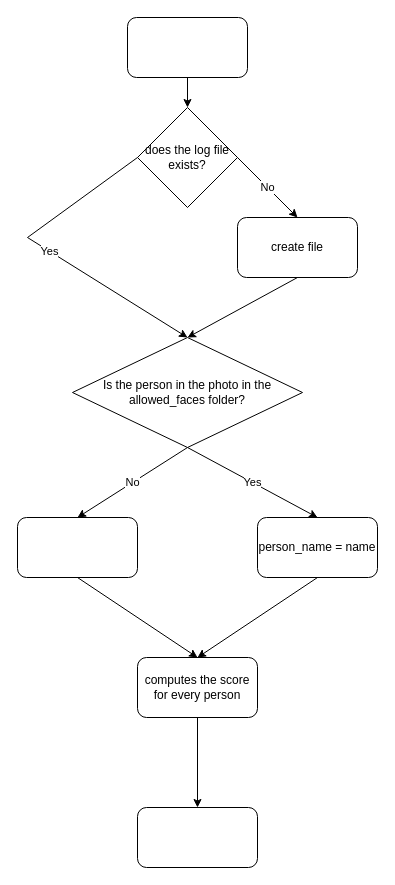
This 395x885 diagram has some shape labels left out. Here are the shapes that lost their labels. From the top down, the centre of each, then its label:
At (x=187, y=47): "start".
At (x=77, y=547): "person_name = unknown guest".
At (x=197, y=837): "add timestamp, person name and score in the csv file".
